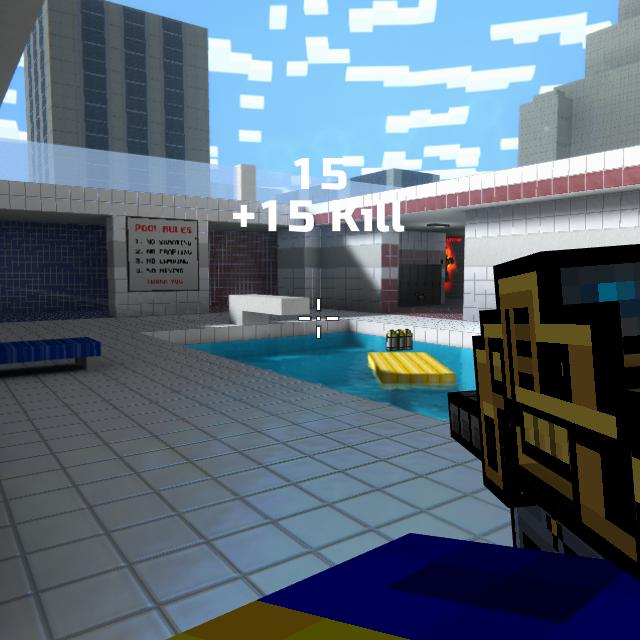Enemy: (445, 246, 454, 287)
